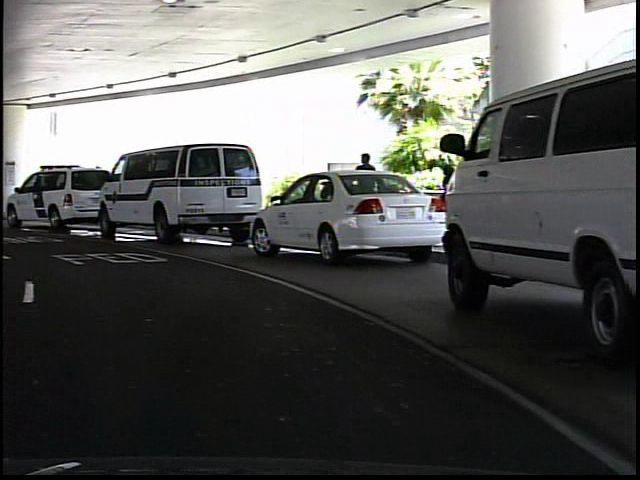person: (349, 147, 381, 236)
